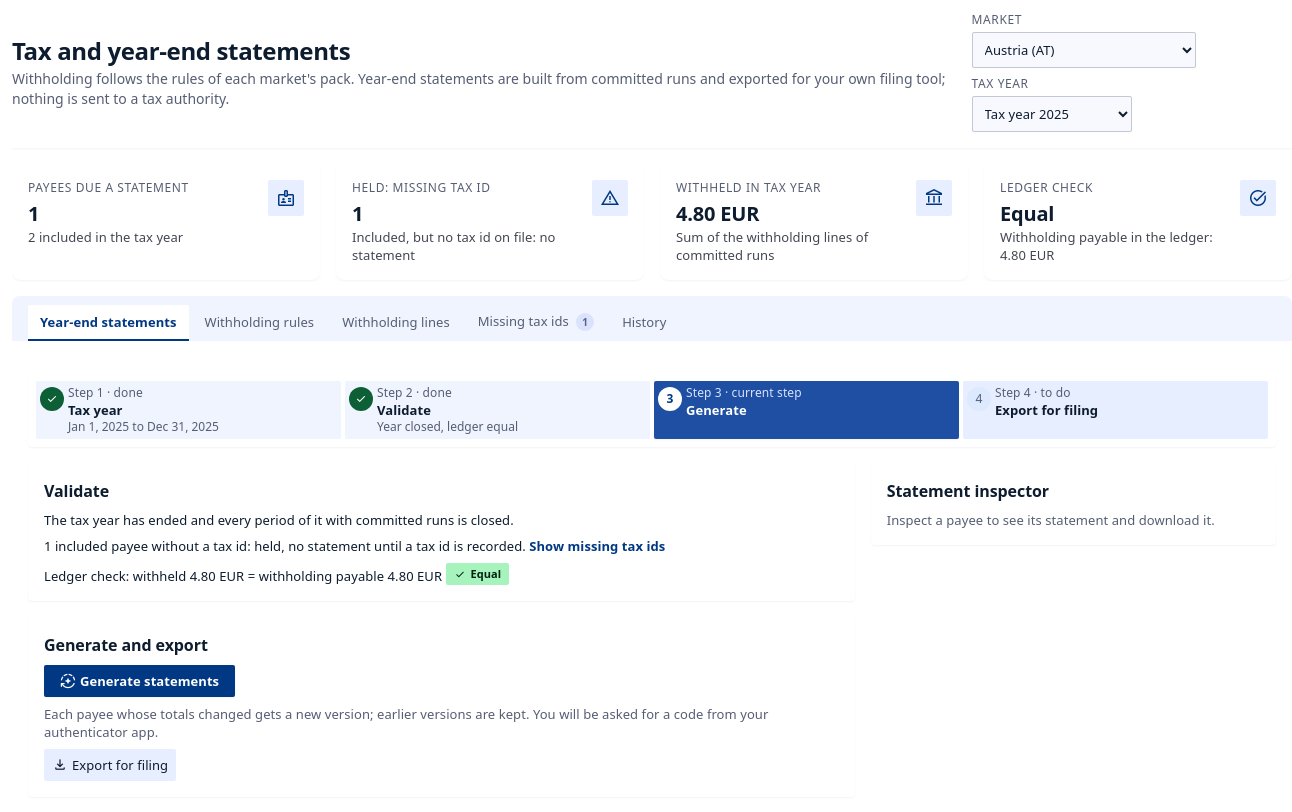
it: SC-12 Tax configuration and year-end statements › generates with an Idempotency-Key and says what was generated and held
The width and height of the screenshot is (1292, 812).
Click the button "Generate statements": x=140, y=681 [44,665,235,697]
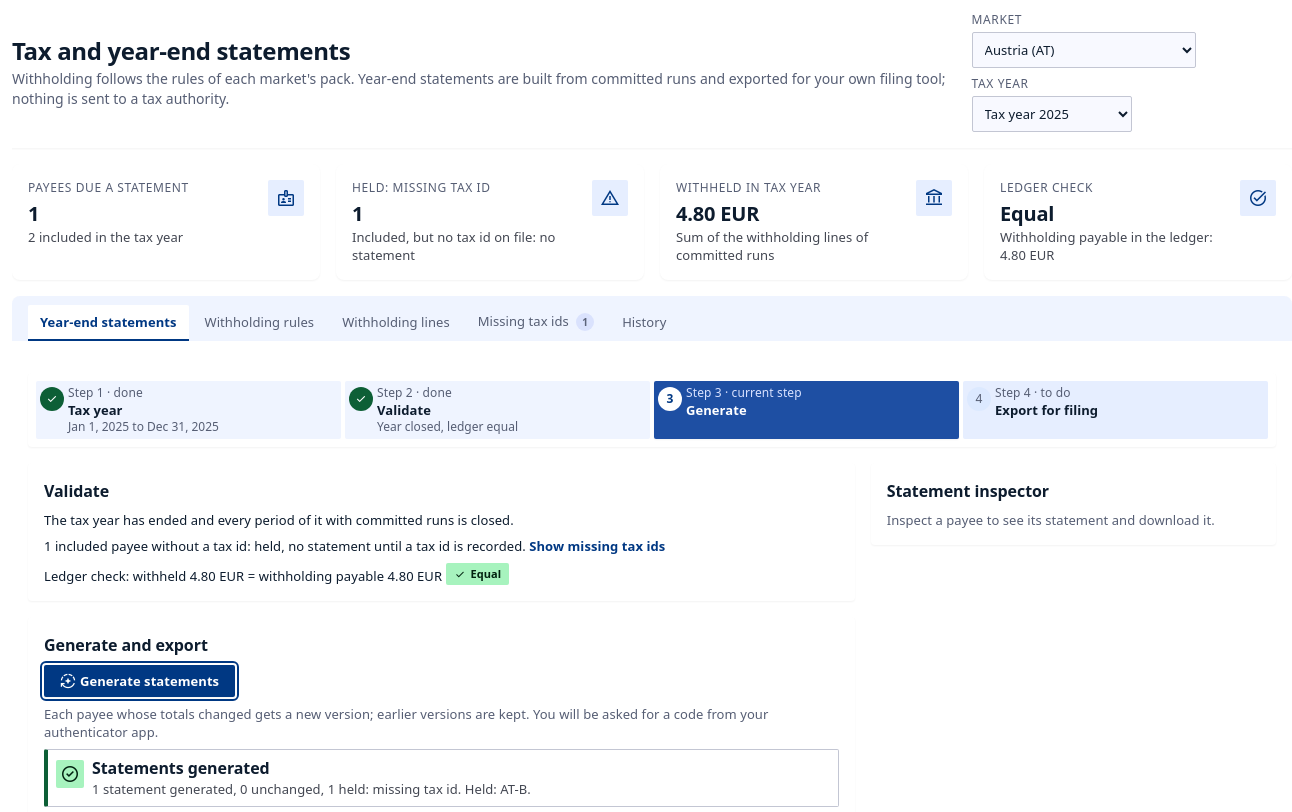
Result: the text "1 statement generated, 0 unchanged, 1 held: missing tax id. Held: AT-B." is shown at [92,780,531,798]
